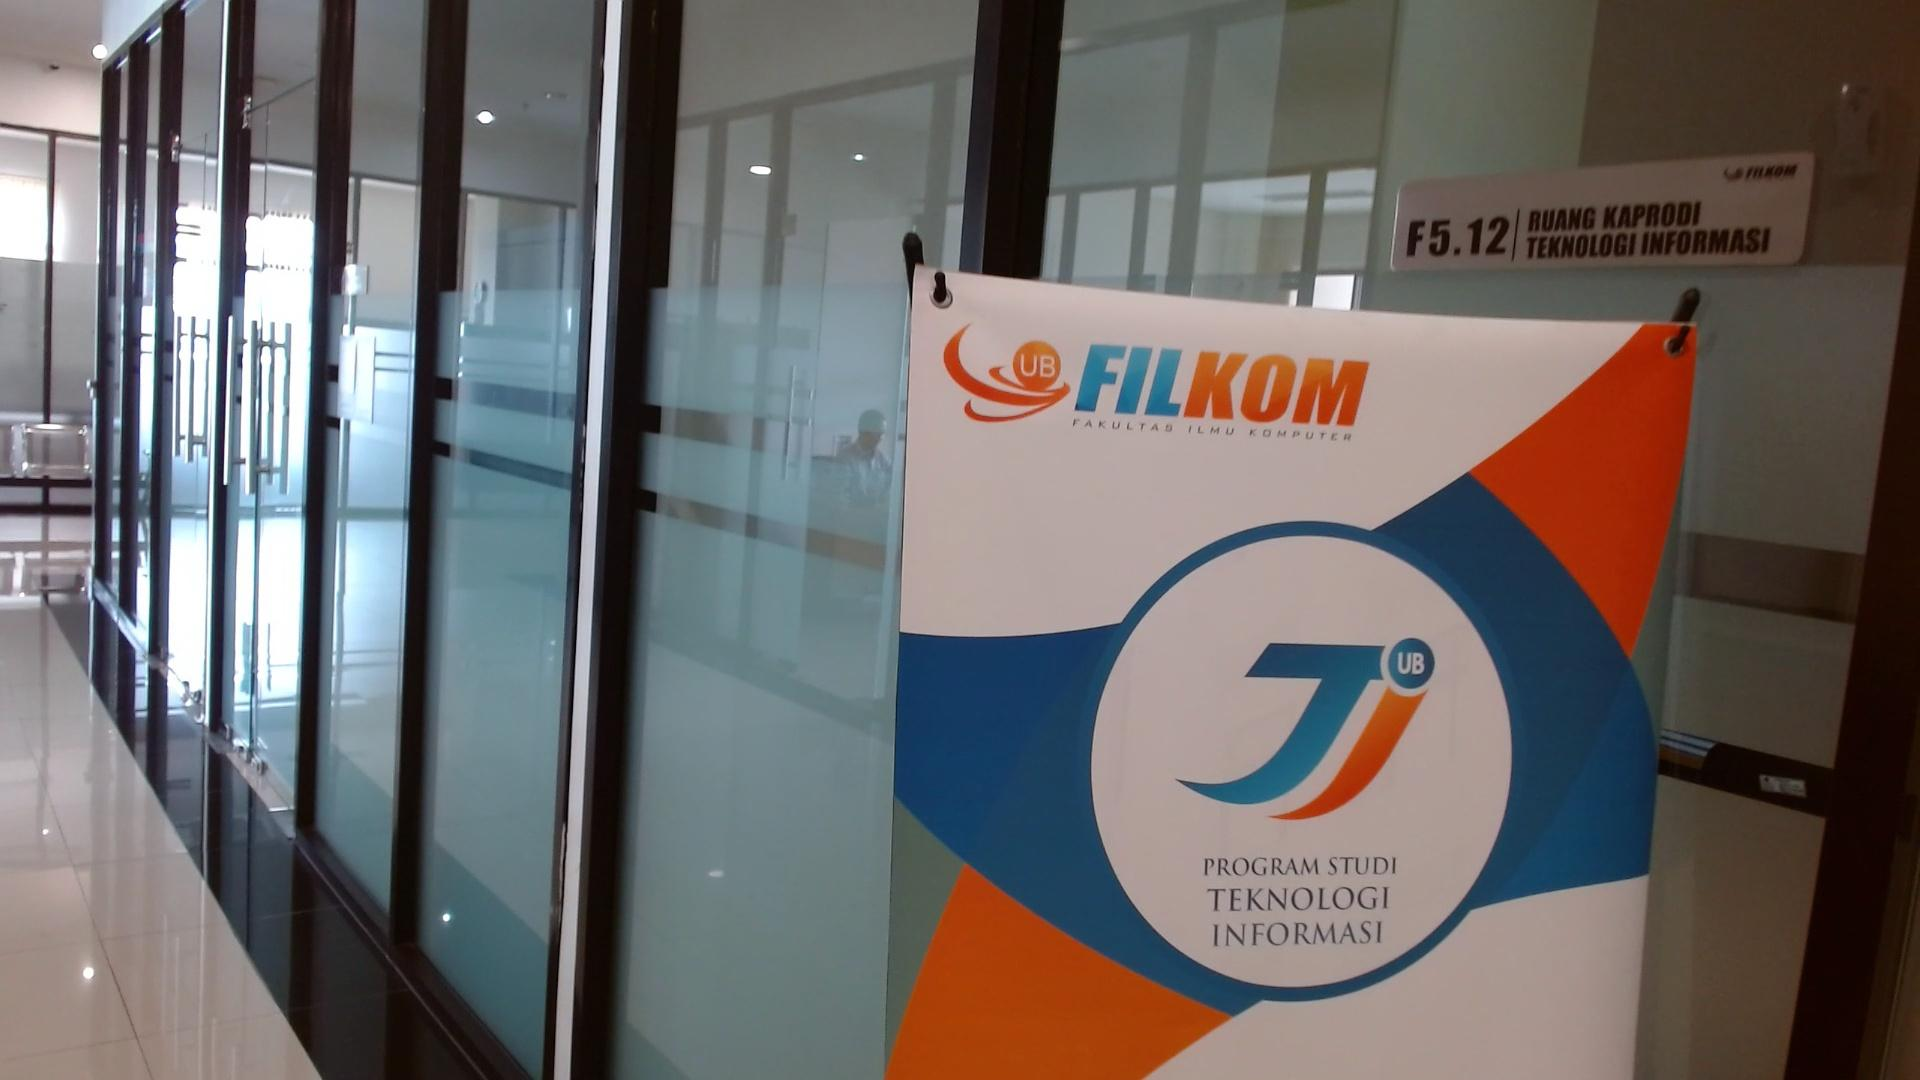plate: (1390, 149, 1815, 272)
